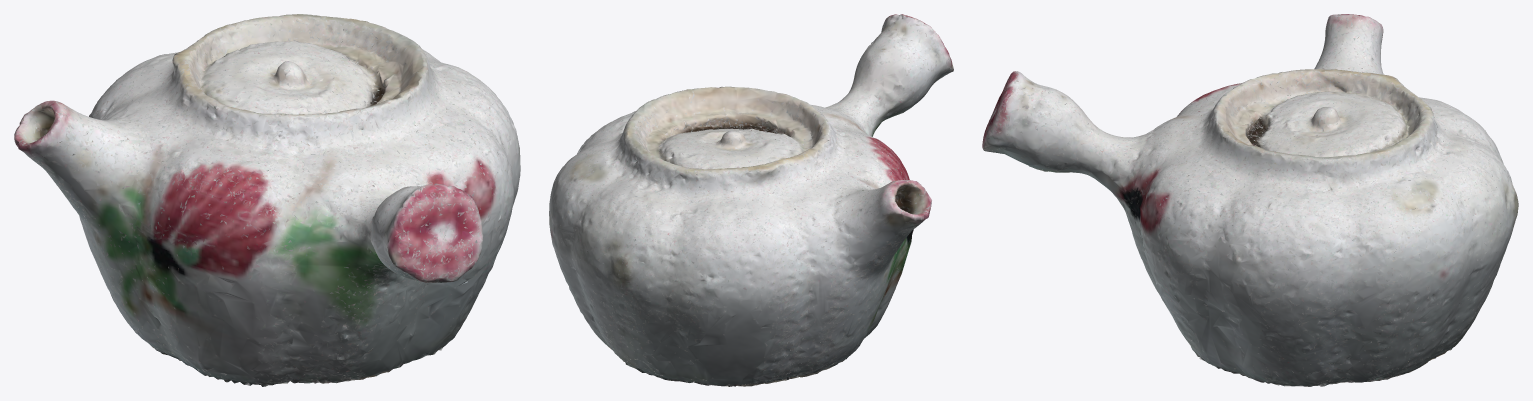
Rendered from 1205_Ceramics_set2.glb.
The picture shows the model from 3 angles, left to right: view 1: azimuth 30°, elevation 25°; view 2: azimuth 150°, elevation 25°; view 3: azimuth 270°, elevation 25°; orthographic projection. The views are drawn at different scales.
Visible parts, largest first — view 1: _Ceramics_set2_edit1:Mesh; view 2: _Ceramics_set2_edit1:Mesh; view 3: _Ceramics_set2_edit1:Mesh.
Part boxes in pixels (x1,y1,x2,y2): _Ceramics_set2_edit1:Mesh: (14, 14, 520, 386); _Ceramics_set2_edit1:Mesh: (549, 14, 953, 386); _Ceramics_set2_edit1:Mesh: (982, 14, 1518, 386).
Size of the model in its own units: 0.0124 by 0.00707 by 0.0146.
Materials: 1 (1 with a texture image).
